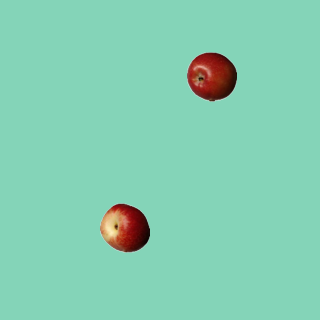Apple Braeburn: (186, 51, 236, 101)
Nectarine: (99, 202, 149, 252)
